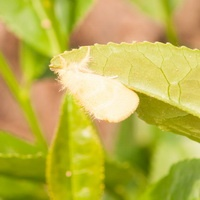insect: (50, 46, 138, 121)
